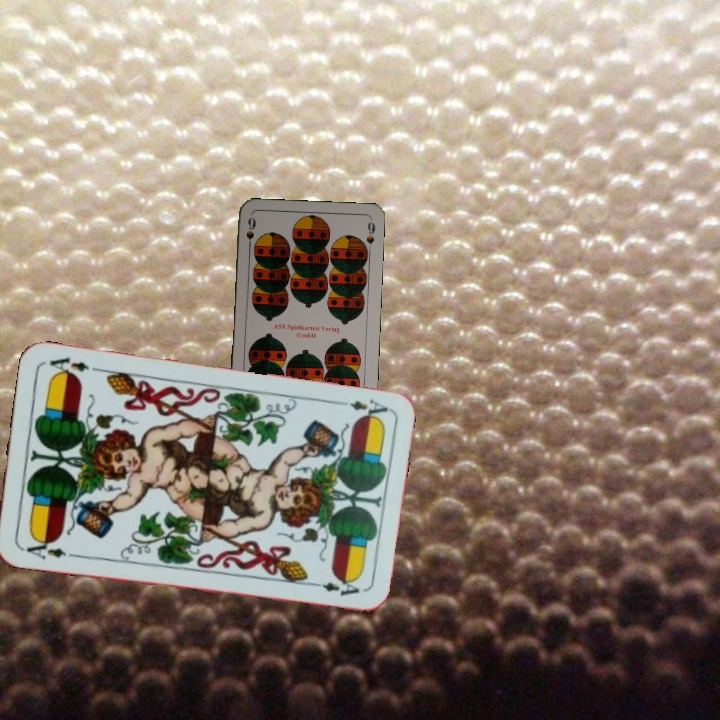EA: (331, 395, 390, 423), (18, 534, 69, 563)
S9: (242, 213, 258, 254)
